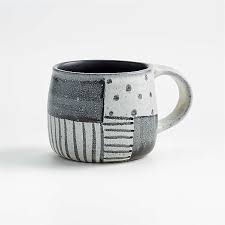cup: (43, 56, 196, 169)
